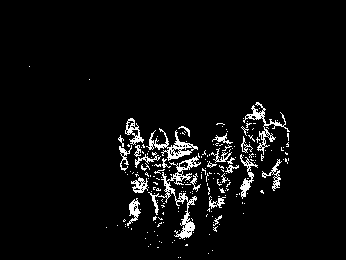person: (202, 121, 240, 232), (169, 125, 201, 238), (118, 116, 146, 227), (239, 100, 266, 199), (146, 127, 172, 226), (266, 110, 290, 192)
